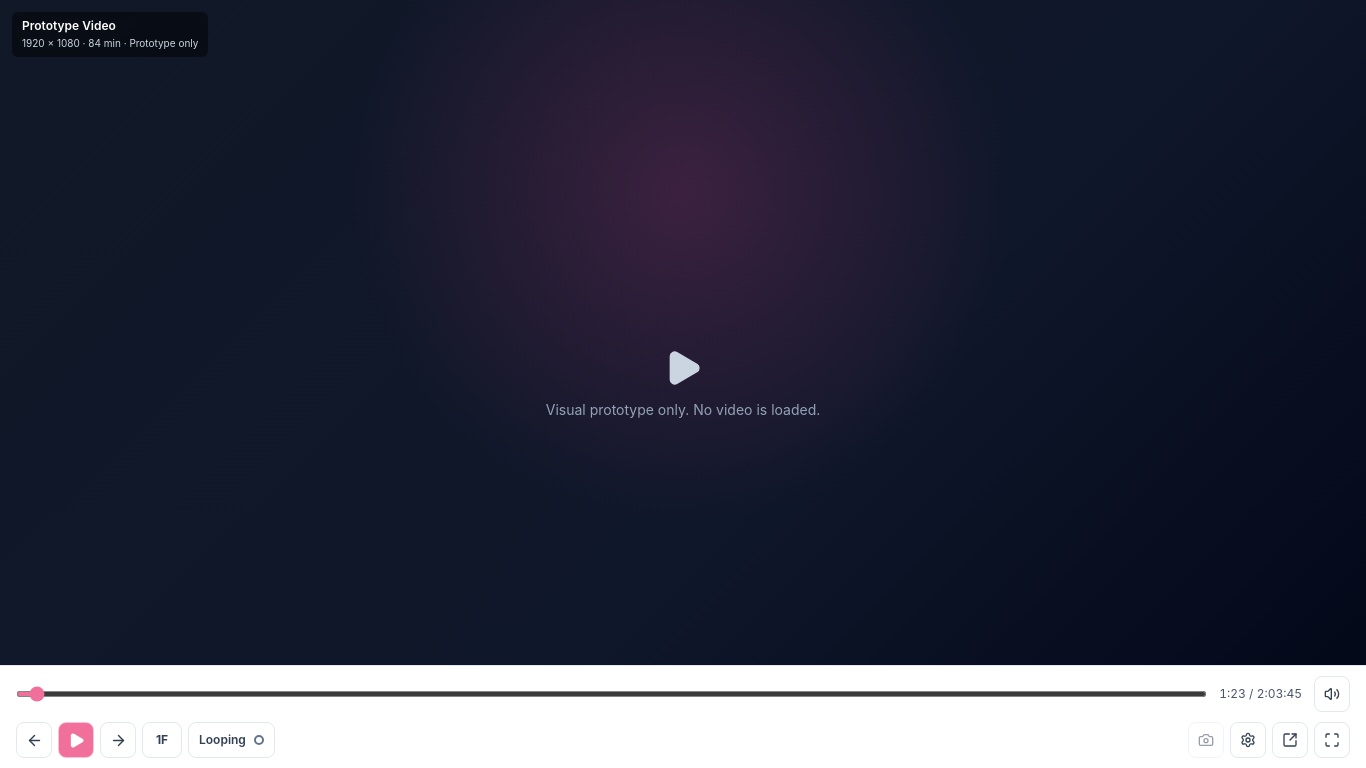
VideoPlayerPrototype › cycles mock playback and the exact compact seek steps
Click the button named "Play" at x=76, y=740, box [58,722,94,758]
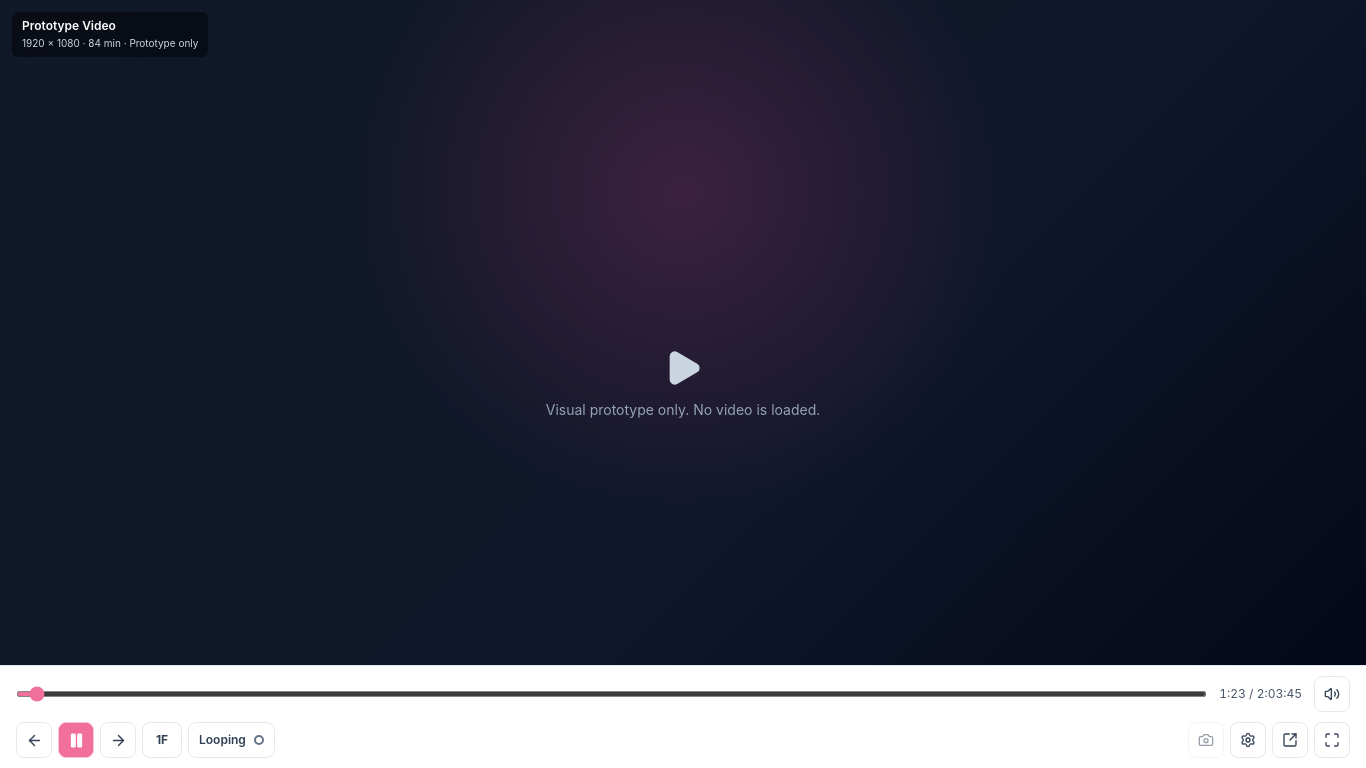
Result: the button named "Pause" is pressed at [58,722,94,758]
Click the button named "Seek step: one frame. Activate to choose the next step." at x=162, y=740, box [142,722,182,758]
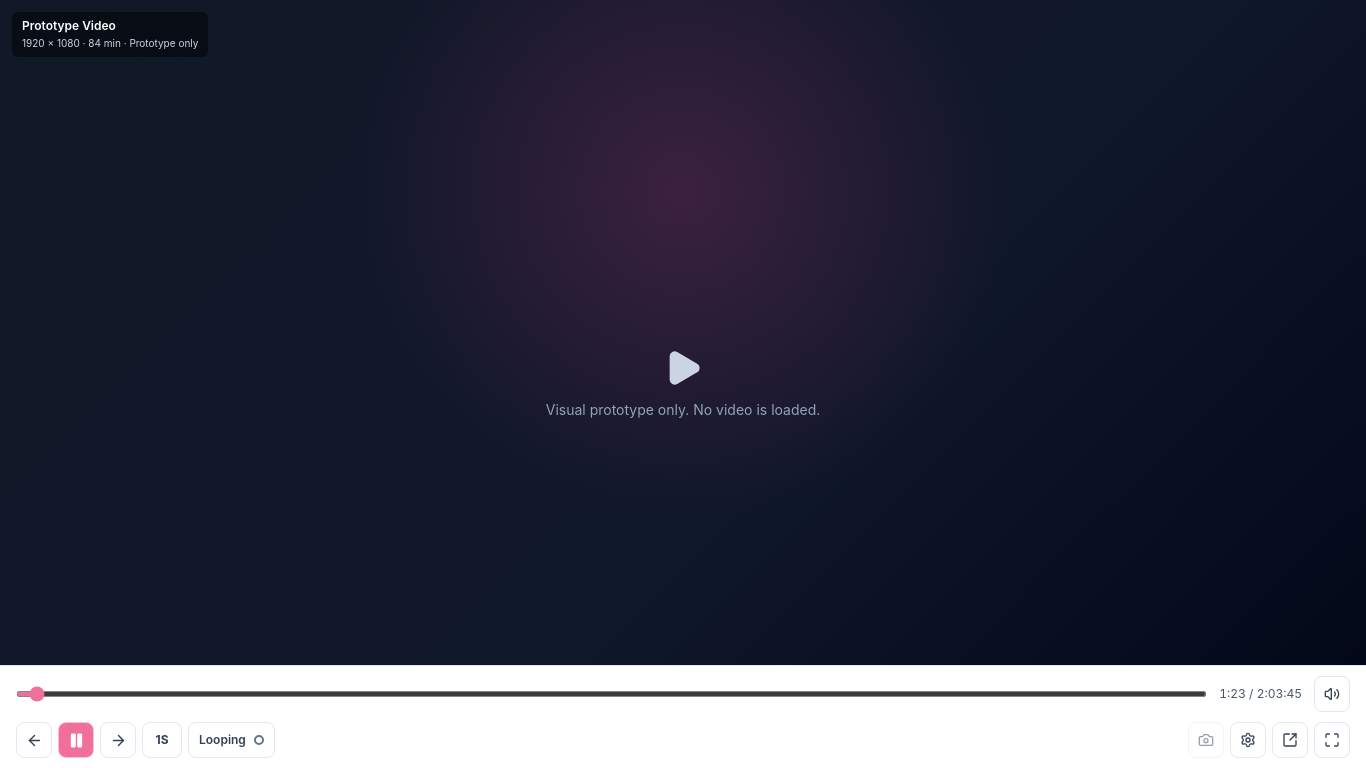
Click the button "1S" at x=162, y=740, box [142,722,182,758]
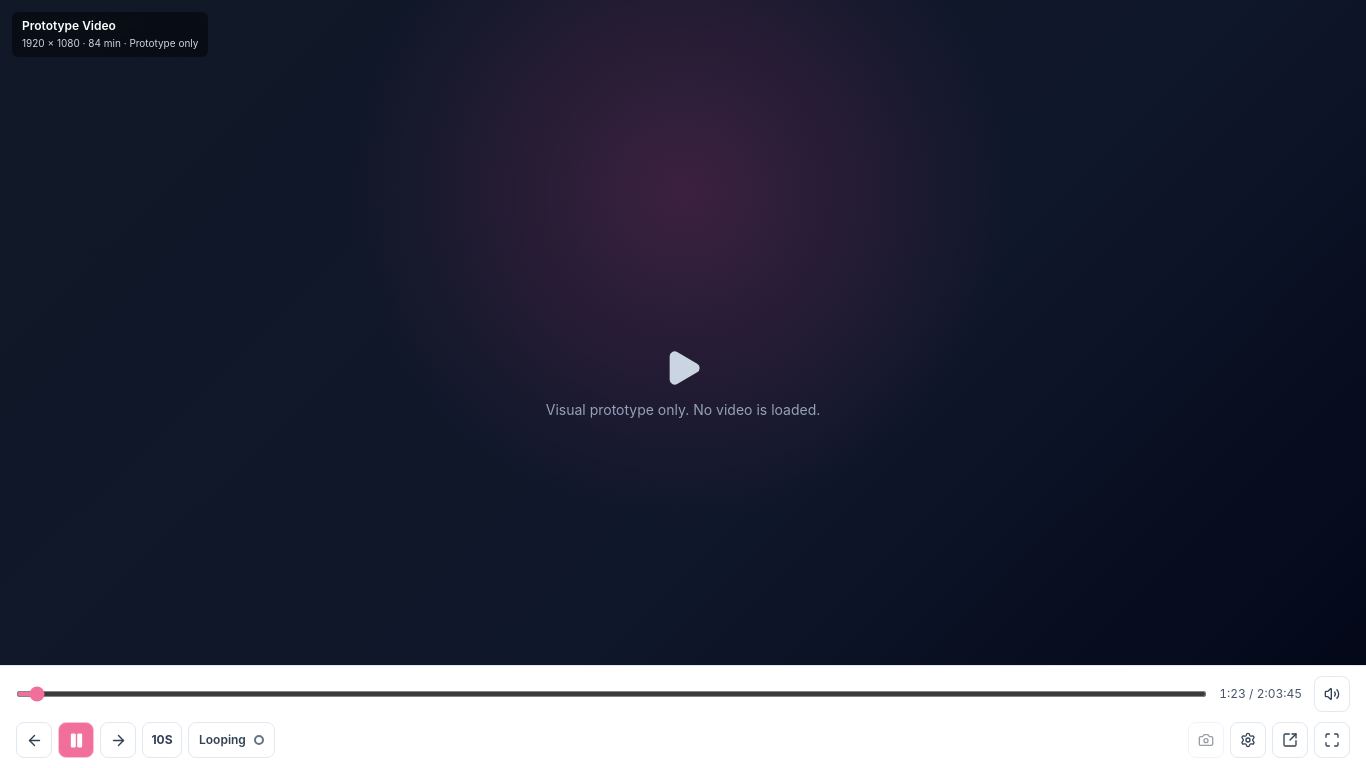
Click the button "10S" at x=162, y=740, box [142,722,182,758]
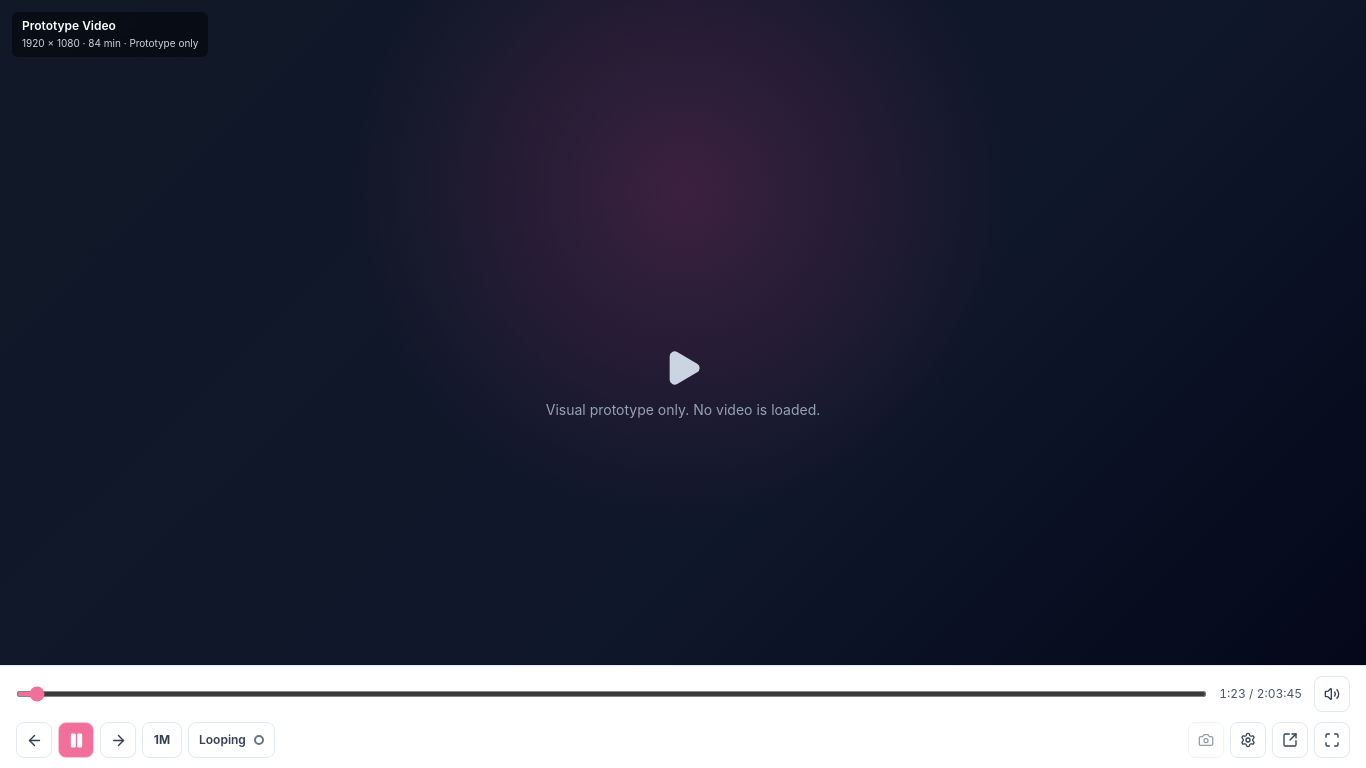
Click the button "1M" at x=162, y=740, box [142,722,182,758]
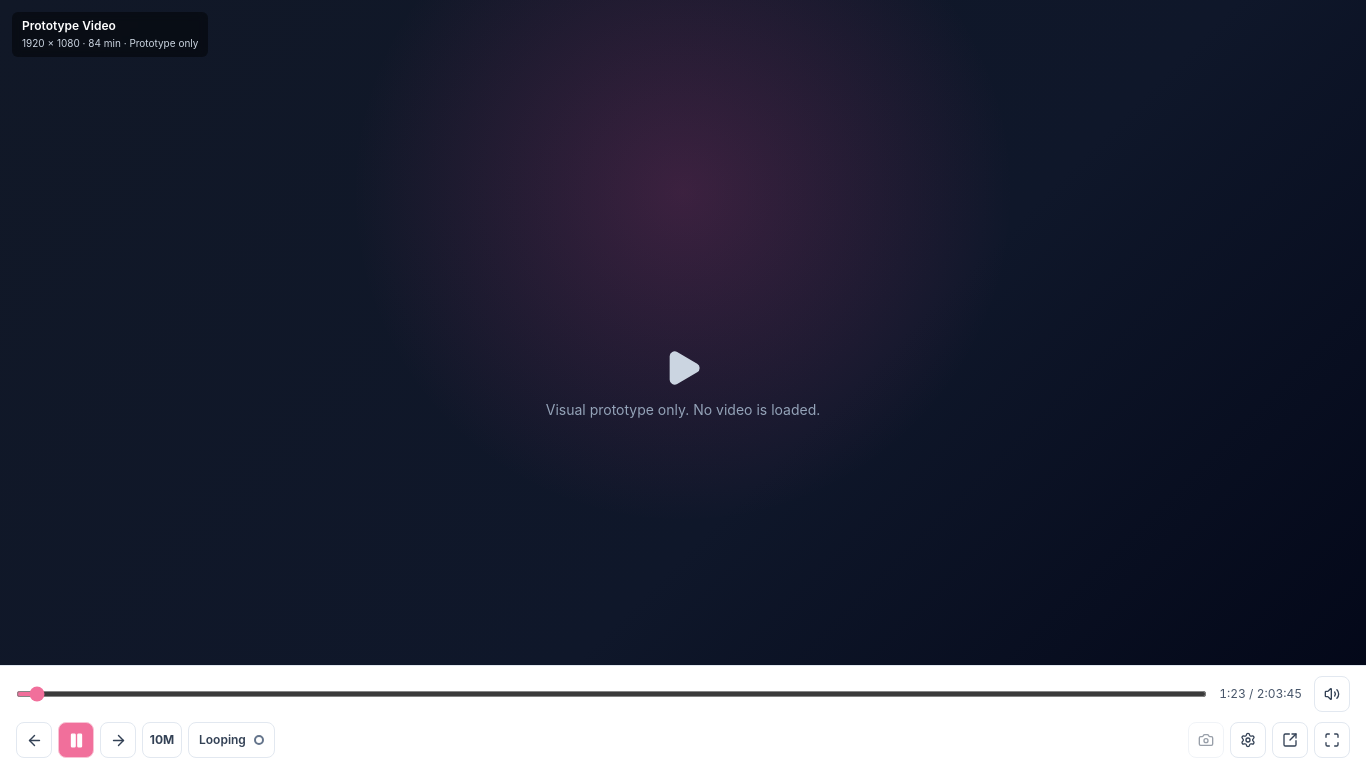
Click the button "10M" at x=162, y=740, box [142,722,182,758]
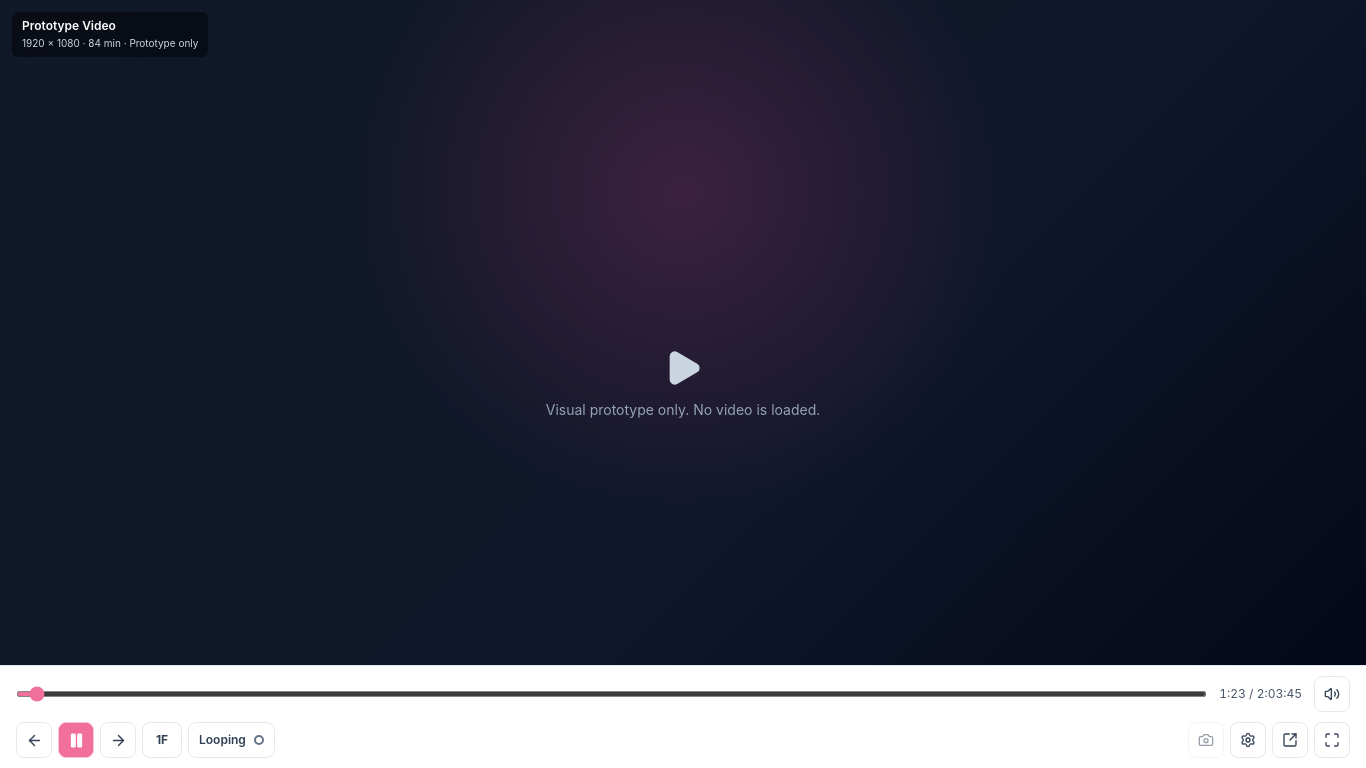
Result: the button named "Seek step: one frame. Activate to choose the next step." is shown at [142,722,182,758]
